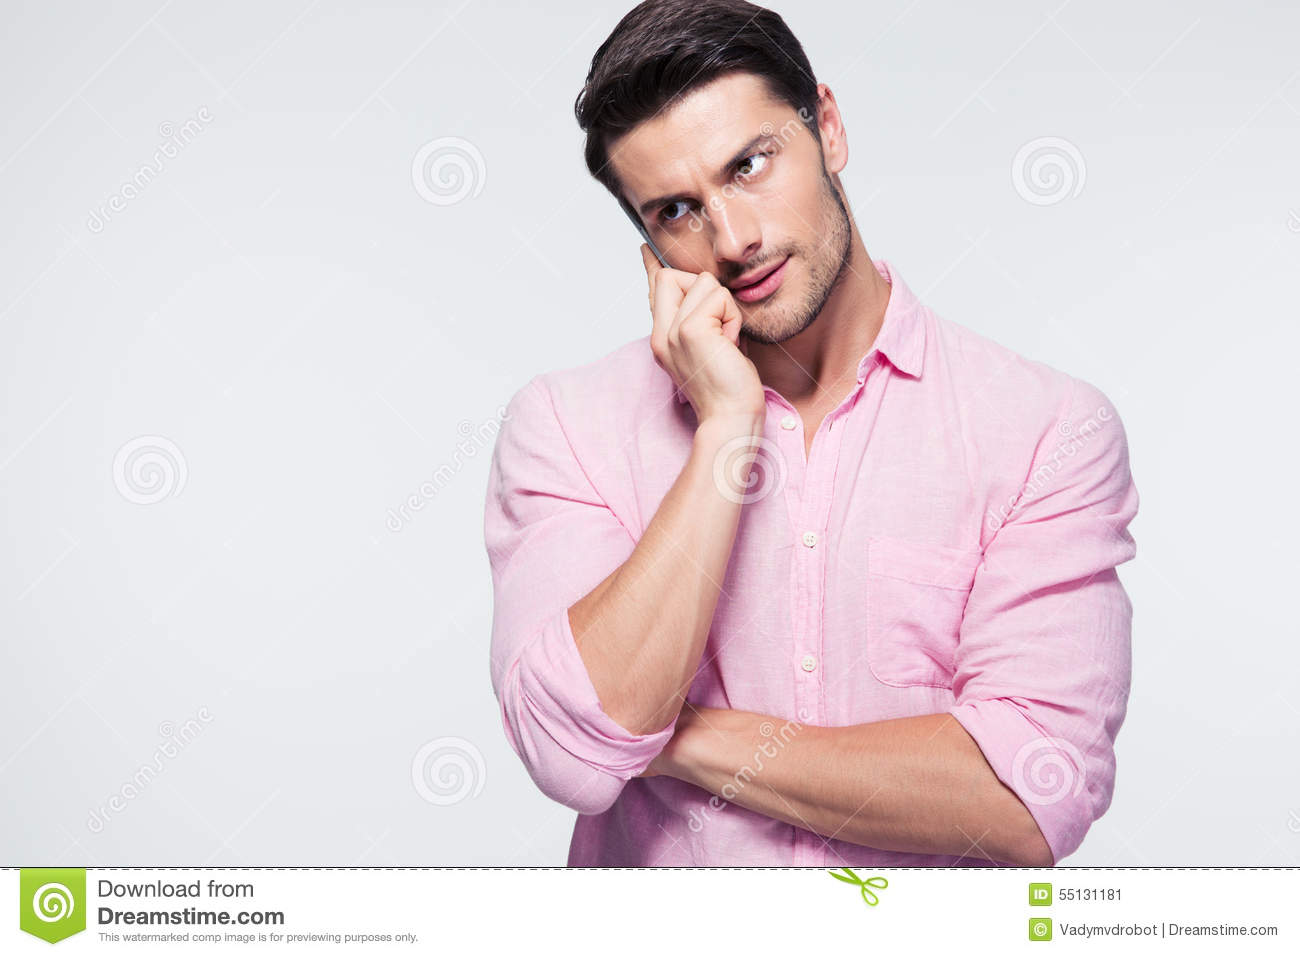phone: (617, 190, 675, 290)
talk: (636, 129, 823, 430)
